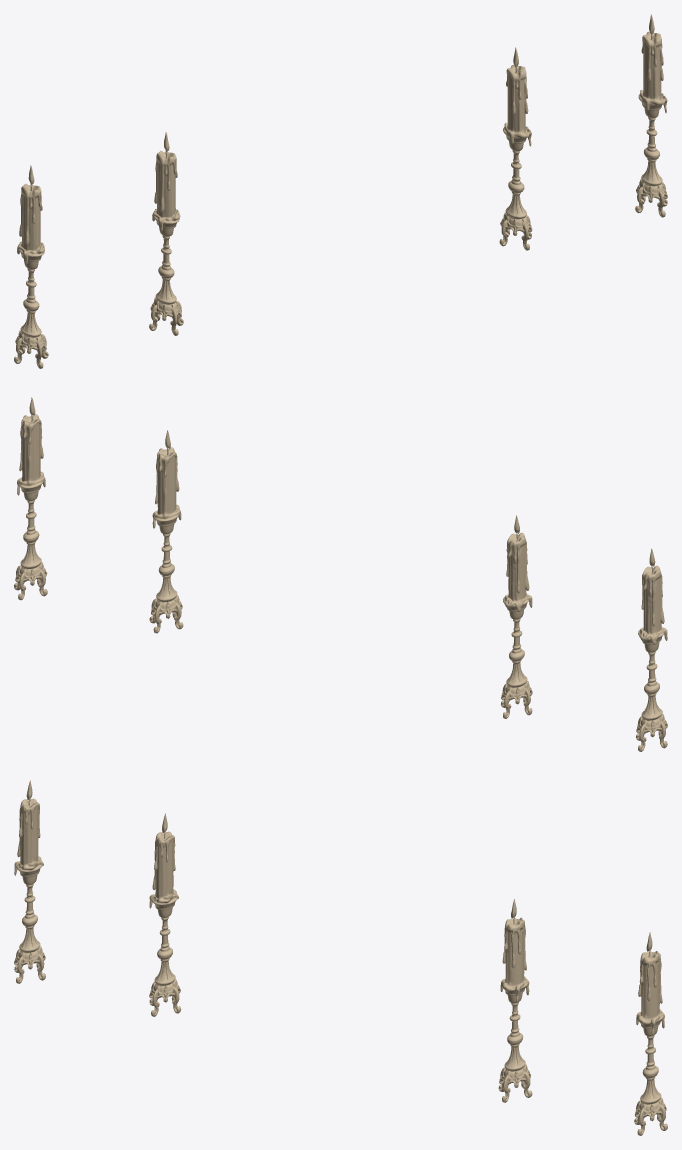
The model's file is altar-candles-medium.glb.
The picture shows the model from 3 angles, top to bottom: view 1: azimuth 30°, elevation 25°; view 2: azimuth 150°, elevation 25°; view 3: azimuth 330°, elevation 25°; orthographic projection.
Parts seen in each view (by area): view 1: ALTAR_ACC_HYPER3D_MEDIUM_LEFT_MASTER, ALTAR_ACC_HYPER3D_MEDIUM_LEFT_ARCH3_MASTER, ALTAR_ACC_HYPER3D_MEDIUM_RIGHT_ARCH3_MASTER, ALTAR_ACC_HYPER3D_MEDIUM_RIGHT_MASTER; view 2: ALTAR_ACC_HYPER3D_MEDIUM_RIGHT_ARCH3_MASTER, ALTAR_ACC_HYPER3D_MEDIUM_RIGHT_MASTER, ALTAR_ACC_HYPER3D_MEDIUM_LEFT_MASTER, ALTAR_ACC_HYPER3D_MEDIUM_LEFT_ARCH3_MASTER; view 3: ALTAR_ACC_HYPER3D_MEDIUM_RIGHT_ARCH3_MASTER, ALTAR_ACC_HYPER3D_MEDIUM_RIGHT_MASTER, ALTAR_ACC_HYPER3D_MEDIUM_LEFT_MASTER, ALTAR_ACC_HYPER3D_MEDIUM_LEFT_ARCH3_MASTER.
Part boxes in pixels (x1,y1,x2,y2): ALTAR_ACC_HYPER3D_MEDIUM_LEFT_MASTER: (14, 165, 48, 368); ALTAR_ACC_HYPER3D_MEDIUM_LEFT_ARCH3_MASTER: (149, 132, 183, 335); ALTAR_ACC_HYPER3D_MEDIUM_RIGHT_ARCH3_MASTER: (499, 47, 532, 250); ALTAR_ACC_HYPER3D_MEDIUM_RIGHT_MASTER: (635, 14, 667, 217); ALTAR_ACC_HYPER3D_MEDIUM_RIGHT_ARCH3_MASTER: (149, 430, 183, 633); ALTAR_ACC_HYPER3D_MEDIUM_RIGHT_MASTER: (14, 397, 47, 600); ALTAR_ACC_HYPER3D_MEDIUM_LEFT_MASTER: (636, 548, 667, 751); ALTAR_ACC_HYPER3D_MEDIUM_LEFT_ARCH3_MASTER: (501, 515, 532, 718); ALTAR_ACC_HYPER3D_MEDIUM_RIGHT_ARCH3_MASTER: (498, 899, 532, 1102); ALTAR_ACC_HYPER3D_MEDIUM_RIGHT_MASTER: (634, 932, 667, 1135); ALTAR_ACC_HYPER3D_MEDIUM_LEFT_MASTER: (14, 780, 45, 983); ALTAR_ACC_HYPER3D_MEDIUM_LEFT_ARCH3_MASTER: (149, 813, 181, 1016).
Bounding box in the file's own units: 7.2 × 2.06 × 0.4724.
